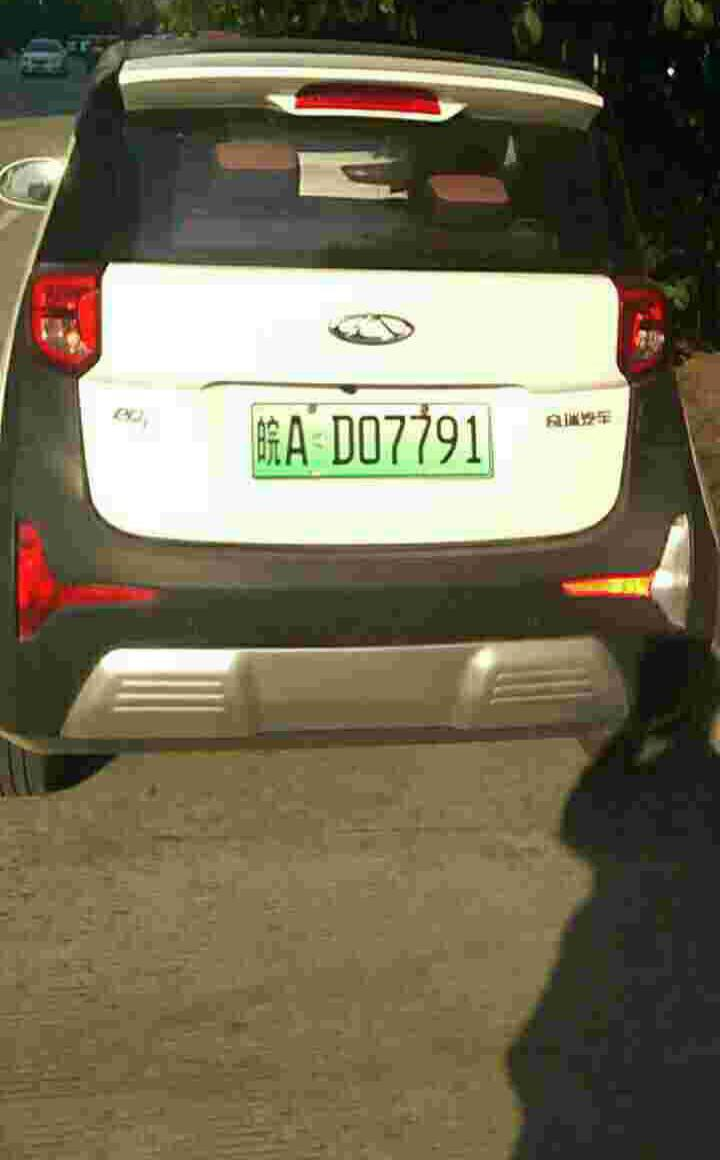car_green: (247, 392, 497, 486)
